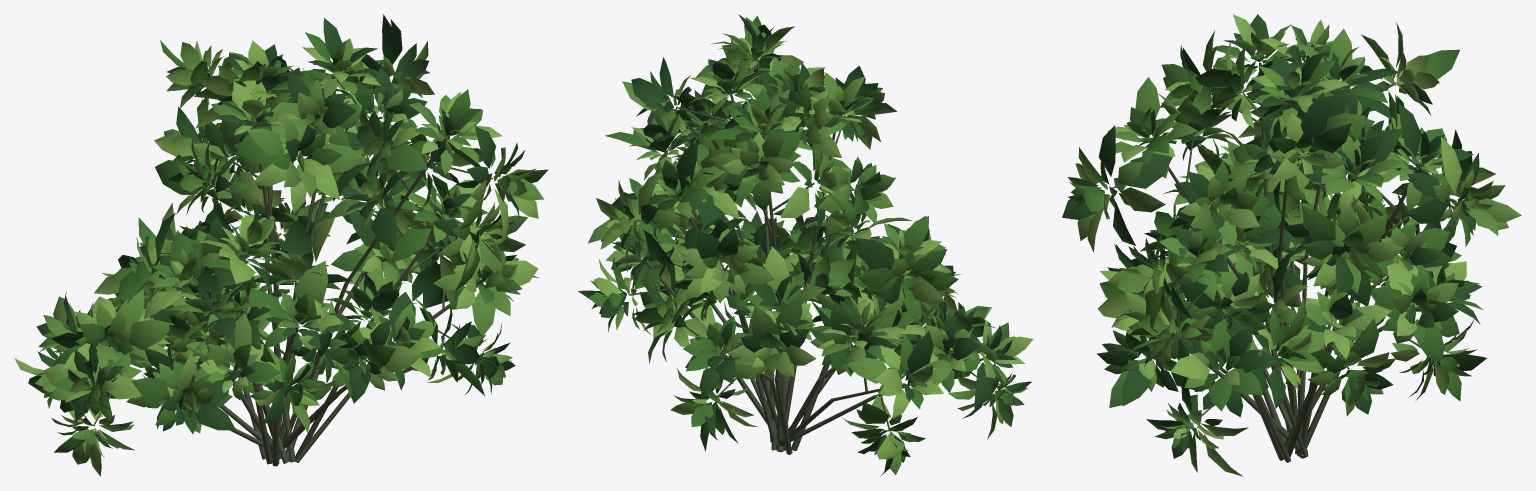
The model's file is shrub-07-green.glb.
3 views of the same model, side by side, from view 1: azimuth 30°, elevation 25°; view 2: azimuth 150°, elevation 25°; view 3: azimuth 270°, elevation 25° (orthographic). The views are drawn at different scales.
Parts seen in each view (by area): view 1: foliage-3, foliage-1, foliage-4, foliage-2, branches; view 2: foliage-4, foliage-1, foliage-2, foliage-3, branches; view 3: foliage-1, foliage-3, foliage-2, foliage-4, branches.
Part boxes in pixels (x1,y1,x2,y2): foliage-3: (35, 38, 544, 464); foliage-1: (28, 14, 519, 449); foliage-4: (14, 40, 538, 476); foliage-2: (39, 32, 548, 452); branches: (93, 78, 492, 466); foliage-4: (594, 33, 1032, 462); foliage-1: (601, 24, 1031, 475); foliage-2: (578, 14, 1016, 451); foliage-3: (588, 26, 1028, 474); branches: (629, 59, 983, 454); foliage-1: (1062, 14, 1486, 458); foliage-3: (1067, 22, 1505, 476); foliage-2: (1068, 26, 1482, 447); foliage-4: (1075, 14, 1521, 448); branches: (1112, 62, 1456, 462).
Bounding box in the file's own units: 1.34 × 1.16 × 1.12.
